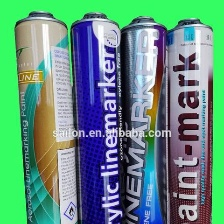aerosol_cans: (10, 7, 80, 223), (67, 9, 124, 224), (161, 14, 216, 224), (115, 13, 170, 223)
